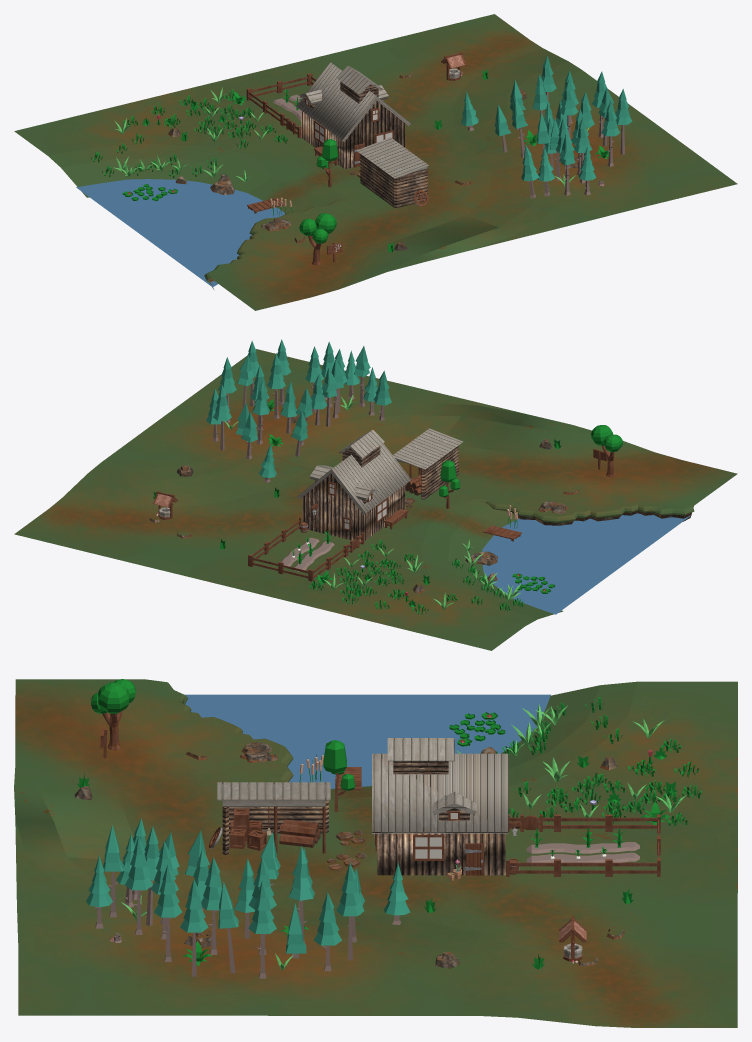
The model's file is cabin.gltf.
The picture shows the model from 3 angles, top to bottom: view 1: azimuth 30°, elevation 25°; view 2: azimuth 150°, elevation 25°; view 3: azimuth 270°, elevation 25°; orthographic projection. The views are drawn at different scales.
Parts seen in each view (by area): view 1: gras; view 2: gras; view 3: gras.
Part boxes in pixels (<box>): gras: <box>14,14,737,310</box>; gras: <box>14,339,737,650</box>; gras: <box>14,679,737,1027</box>.
Bounding box in the file's own units: 16.08 × 3.08 × 14.05.
33 materials, 8 textured.
